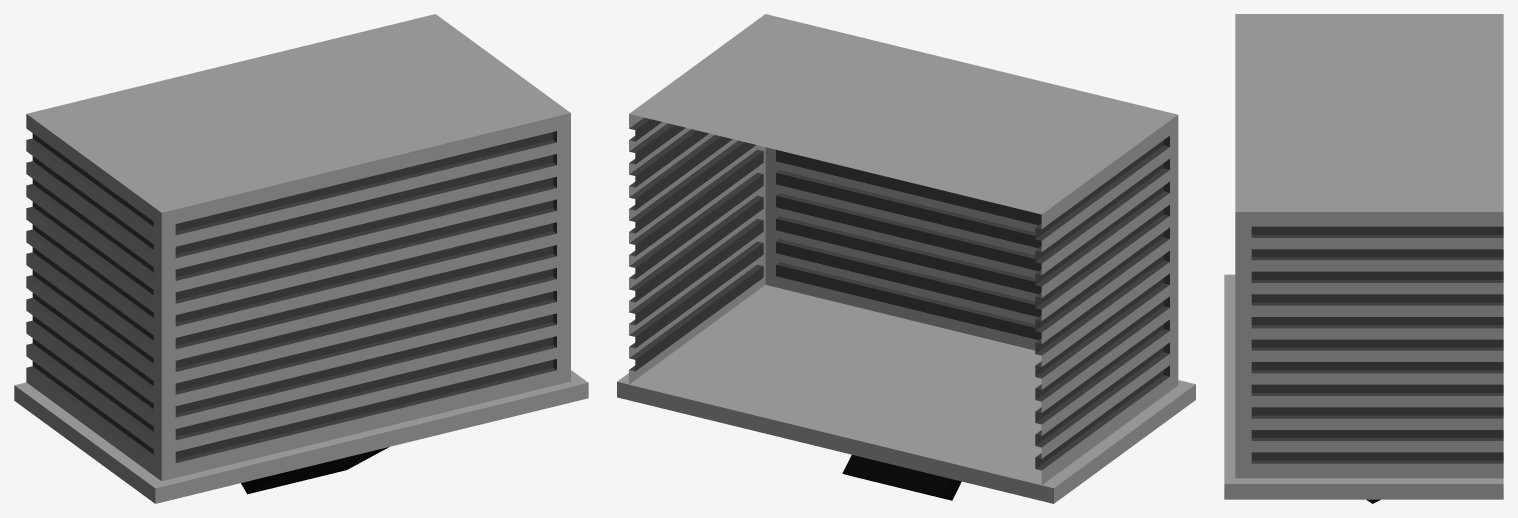
File: object_B3_Air.glb
3 renders of one model, left to right at view 1: azimuth 30°, elevation 25°; view 2: azimuth 150°, elevation 25°; view 3: azimuth 270°, elevation 25°, orthographic.
Visible parts, largest first — view 1: B3 Air; view 2: B3 Air; view 3: B3 Air.
Boxes of the visible parts, x1,y1,x2,y2 form: B3 Air: (14, 14, 588, 503); B3 Air: (617, 14, 1195, 503); B3 Air: (1224, 14, 1503, 503).
Size of the model in its own units: 0.9019 by 0.7362 by 0.5083.
Materials: 2 (1 with a texture image).
